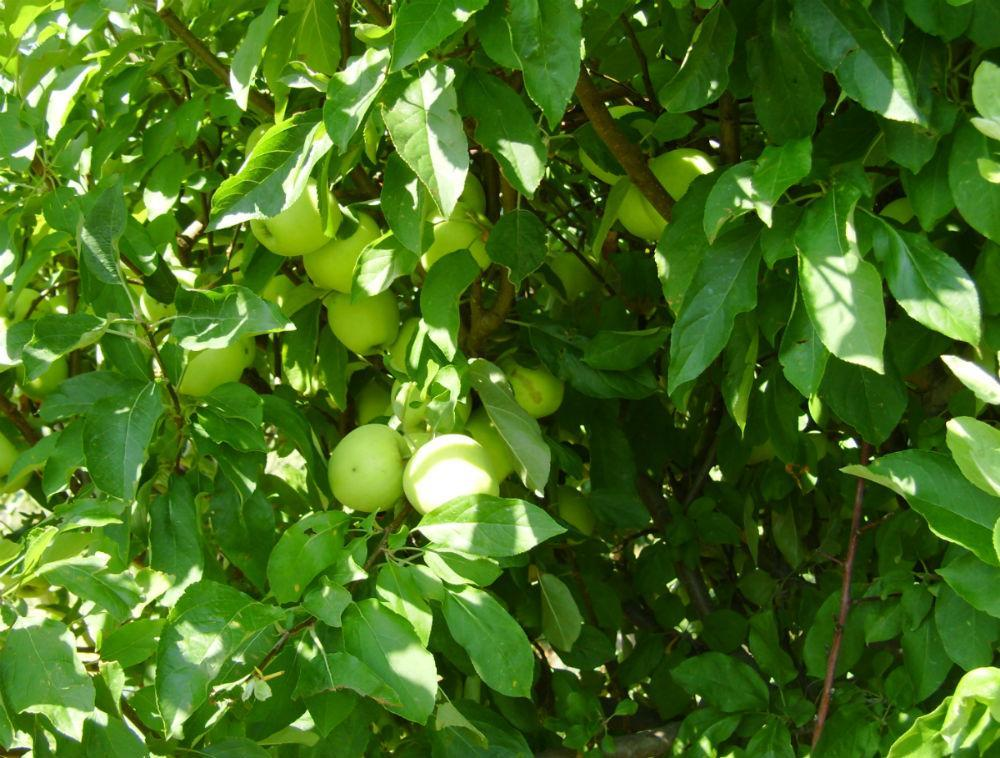apple: (402, 434, 494, 517), (325, 423, 409, 513), (303, 207, 390, 291), (252, 171, 341, 249), (326, 286, 401, 356), (502, 350, 565, 415)
